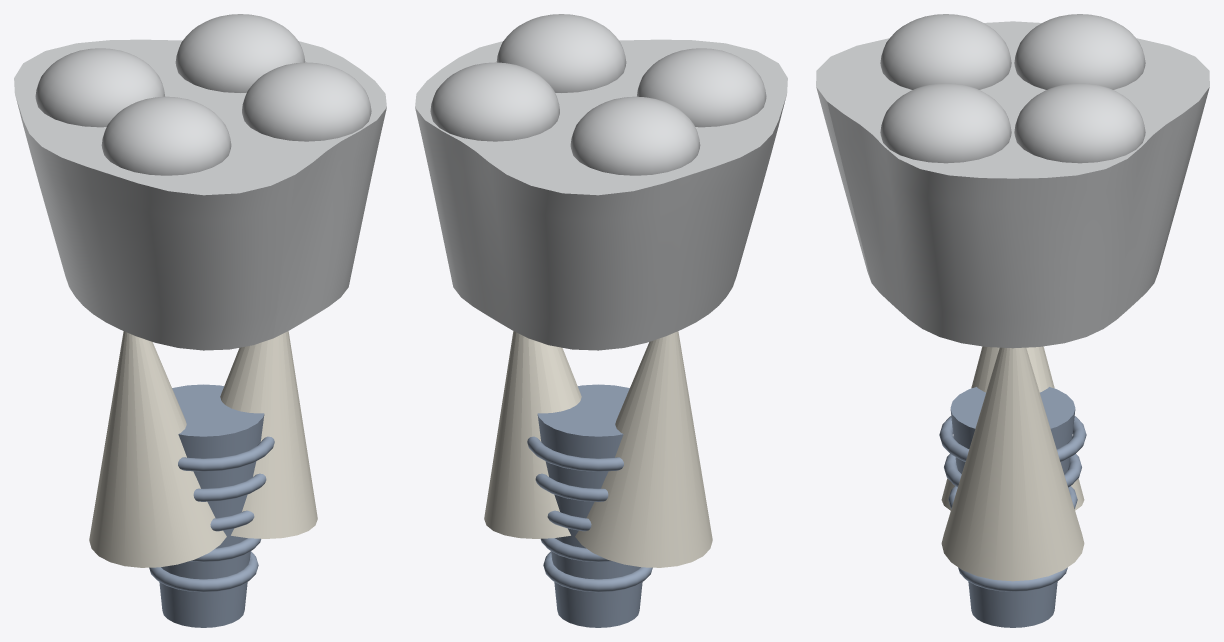
Rendered from dental-tooth.glb.
3 views of the same model, side by side, from view 1: azimuth 30°, elevation 25°; view 2: azimuth 150°, elevation 25°; view 3: azimuth 270°, elevation 25° (orthographic).
Parts seen in each view (by area): view 1: ZirconiaCrown, MesialRoot, DistalRoot, TitaniumAnchor, Cusp_3, Cusp_4, Cusp_1, Cusp_2, Thread_4, Thread_0, Thread_1, Thread_3 (+1 smaller); view 2: ZirconiaCrown, MesialRoot, DistalRoot, TitaniumAnchor, Cusp_1, Cusp_2, Cusp_3, Cusp_4, Thread_4, Thread_0, Thread_1, Thread_3 (+1 smaller); view 3: ZirconiaCrown, DistalRoot, Cusp_2, Cusp_4, Cusp_1, Cusp_3, TitaniumAnchor, MesialRoot, Thread_0, Thread_4, Thread_1.
Boxes of the visible parts, x1,y1,x2,y2 form: ZirconiaCrown: (14,39,386,350); MesialRoot: (89,331,226,567); DistalRoot: (220,331,317,538); TitaniumAnchor: (159,384,264,627); Cusp_3: (101,96,231,175); Cusp_4: (242,62,371,141); Cusp_1: (35,48,164,127); Cusp_2: (175,14,305,92); Thread_4: (149,551,258,592); Thread_0: (178,436,274,471); Thread_1: (193,473,266,501); Thread_3: (189,538,261,562); ZirconiaCrown: (415,39,787,350); MesialRoot: (575,331,712,567); DistalRoot: (484,331,581,538); TitaniumAnchor: (537,384,642,627); Cusp_1: (570,96,700,175); Cusp_2: (430,62,559,141); Cusp_3: (637,48,766,127); Cusp_4: (496,14,626,92); Thread_4: (543,551,652,592); Thread_0: (527,436,623,471); Thread_1: (535,473,608,501); Thread_3: (540,538,612,562); ZirconiaCrown: (816,21,1209,348); DistalRoot: (941,347,1084,581); Cusp_2: (1014,83,1145,163); Cusp_4: (880,83,1011,163); Cusp_1: (1014,14,1145,89); Cusp_3: (880,14,1011,89); TitaniumAnchor: (950,387,1075,627); MesialRoot: (941,346,1084,510); Thread_0: (939,416,1086,461); Thread_4: (958,567,1067,591); Thread_1: (944,454,1081,487).
Bounding box in the file's own units: 2.5 × 4.1 × 2.65.
